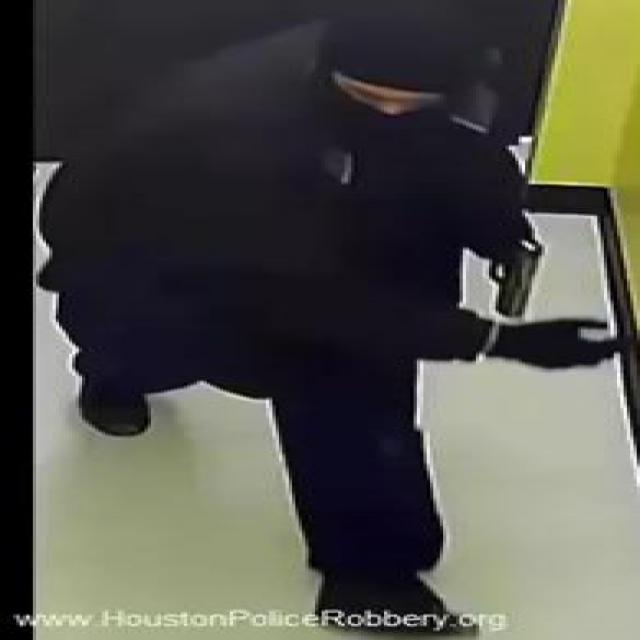Gun: (462, 228, 542, 315)
